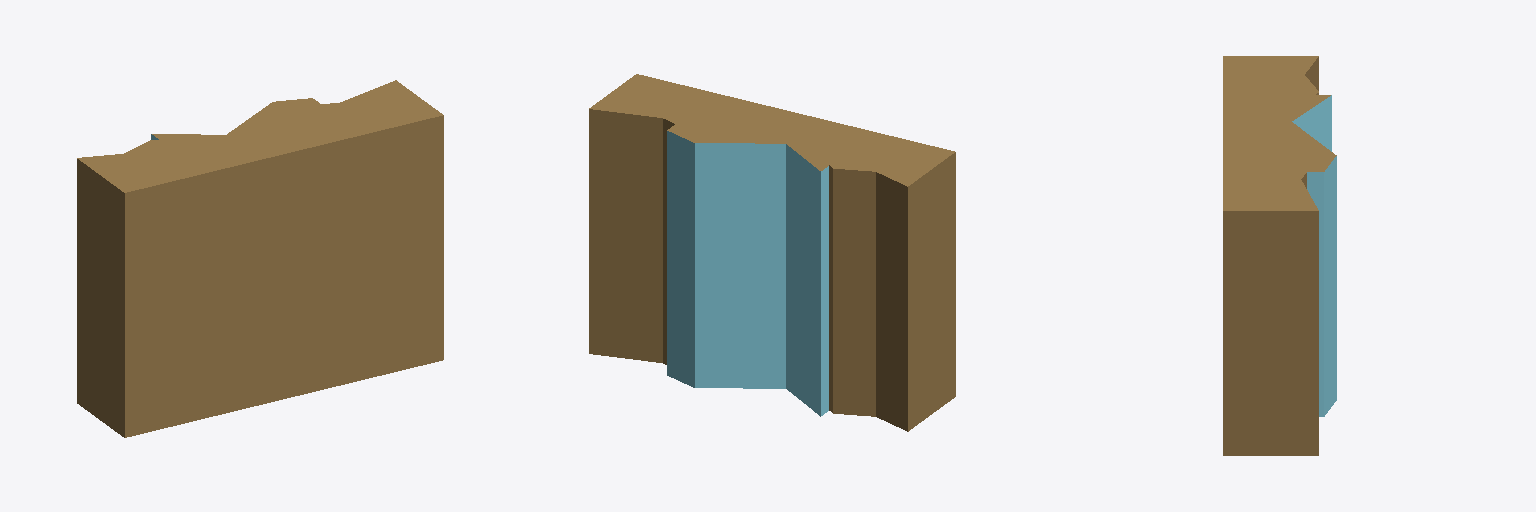
Rendered from Brown_Waterfall_01.obj.
3 renders of one model, left to right at view 1: azimuth 30°, elevation 25°; view 2: azimuth 150°, elevation 25°; view 3: azimuth 270°, elevation 25°, orthographic.
Visible parts, largest first — view 1: Mesh1_Brown_Waterfall_Model; view 2: Mesh1_Brown_Waterfall_Model; view 3: Mesh1_Brown_Waterfall_Model.
Part boxes in pixels (left/top/right/bottom): Mesh1_Brown_Waterfall_Model: left=77, top=80, right=443, bottom=437; Mesh1_Brown_Waterfall_Model: left=589, top=74, right=955, bottom=431; Mesh1_Brown_Waterfall_Model: left=1223, top=56, right=1336, bottom=455.
Size of the model in its own units: 3 by 2.2 by 0.92.